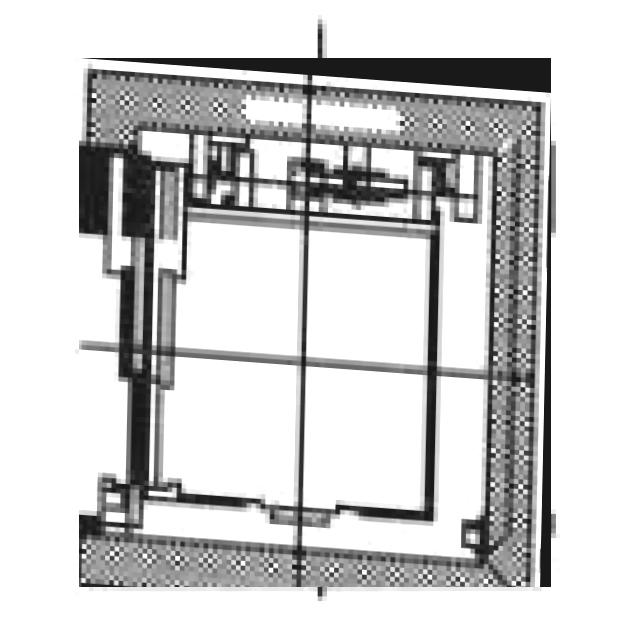lift: (80, 58, 552, 587)
